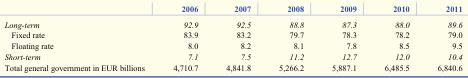table: (3, 4, 461, 71)
table column: (3, 4, 158, 71), (158, 4, 211, 71), (211, 4, 264, 71), (264, 4, 317, 71), (369, 4, 422, 71), (317, 4, 369, 71), (422, 4, 461, 71)
table column header: (3, 4, 461, 16)
table row: (3, 16, 461, 29), (3, 4, 461, 16), (3, 29, 461, 40), (3, 40, 461, 51), (3, 51, 461, 62), (3, 62, 461, 71)
